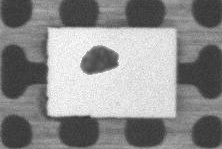DIE_INK: (79, 44, 120, 76)
